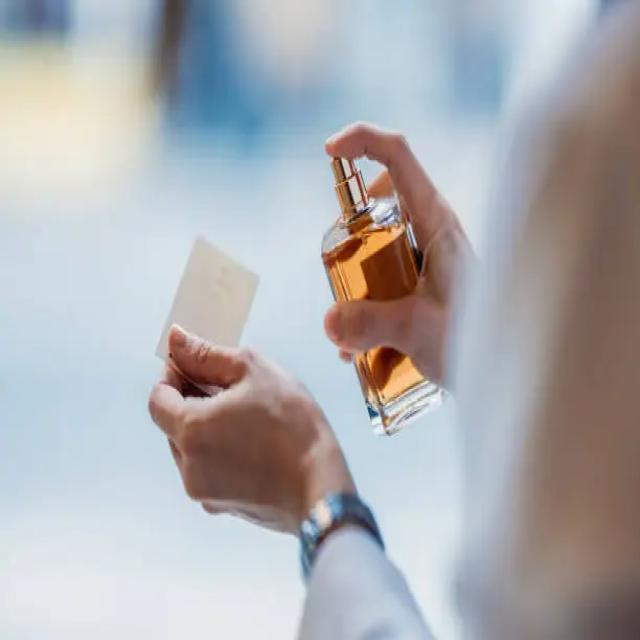Bottle: (323, 159, 421, 301)
